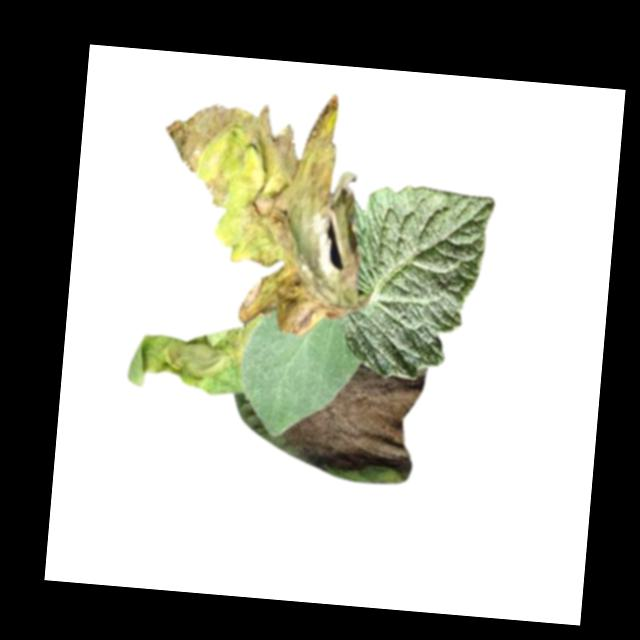Late_blight: (149, 80, 377, 340), (277, 357, 429, 478), (125, 303, 262, 399)
